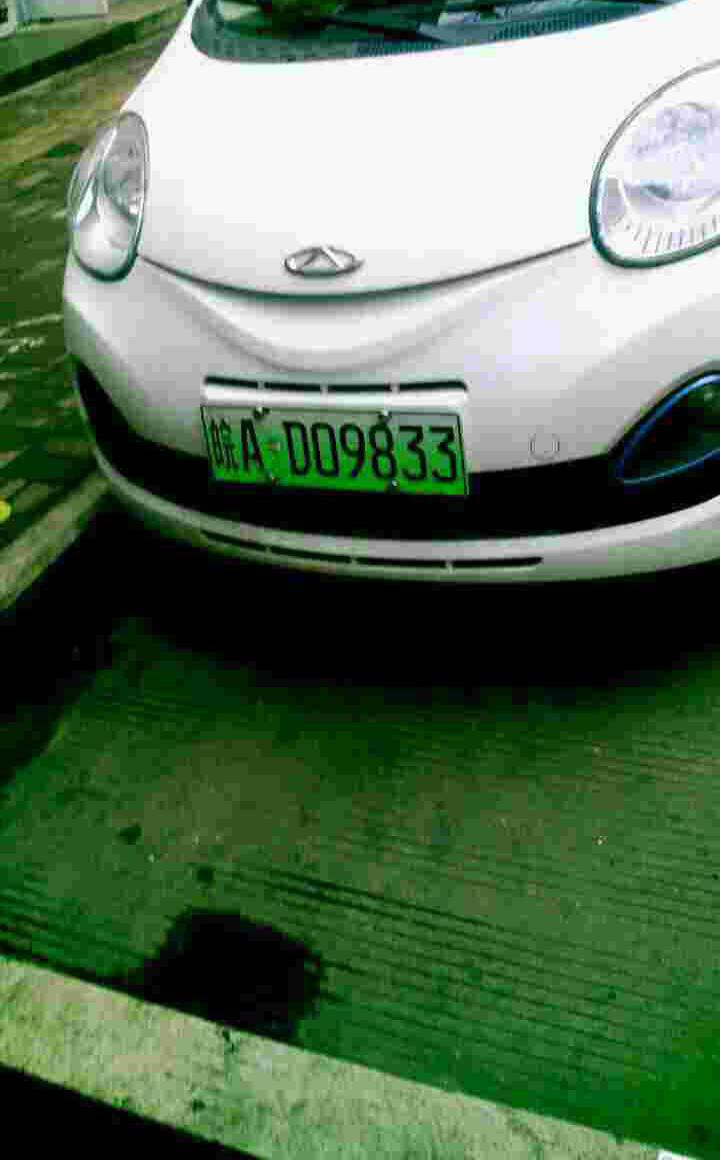car: (200, 406, 481, 502)
